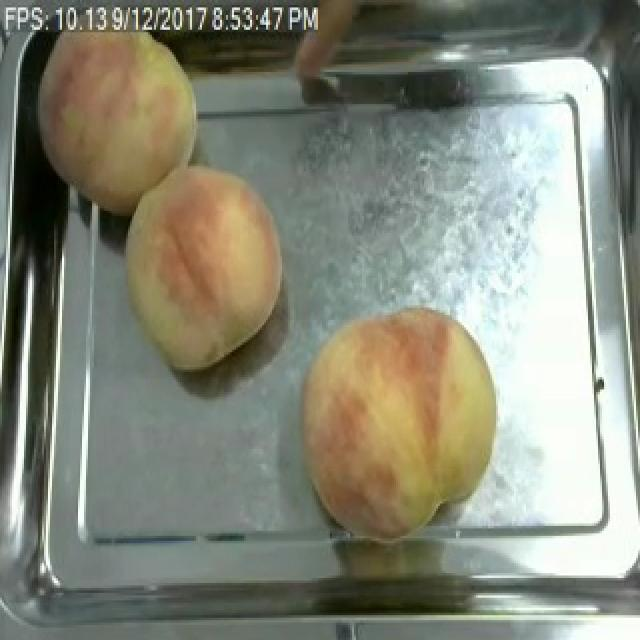Fruit: (288, 300, 510, 546), (18, 7, 210, 221), (112, 154, 290, 382)
